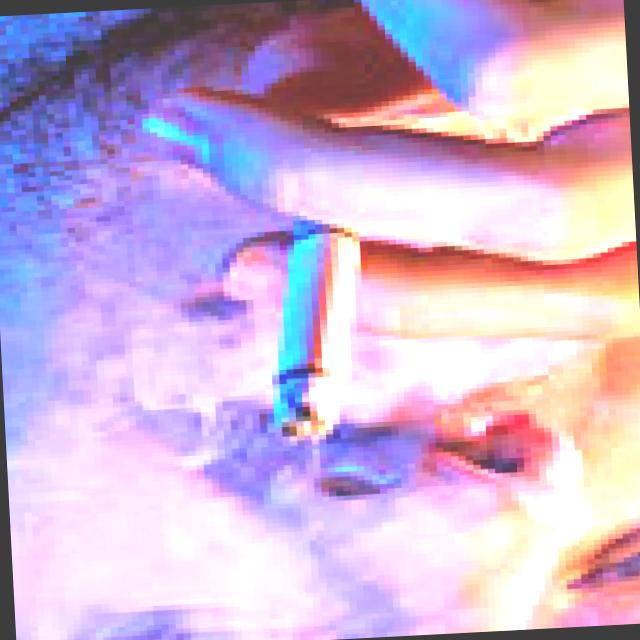smoke: (250, 188, 384, 466)
